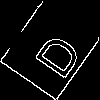D: (25, 25, 84, 82)
